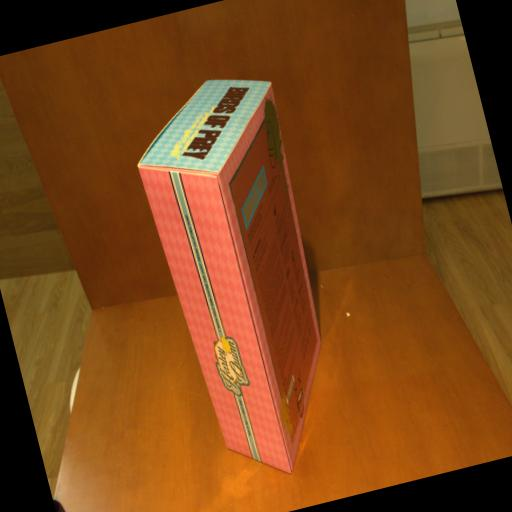Harley: (122, 64, 366, 493)
